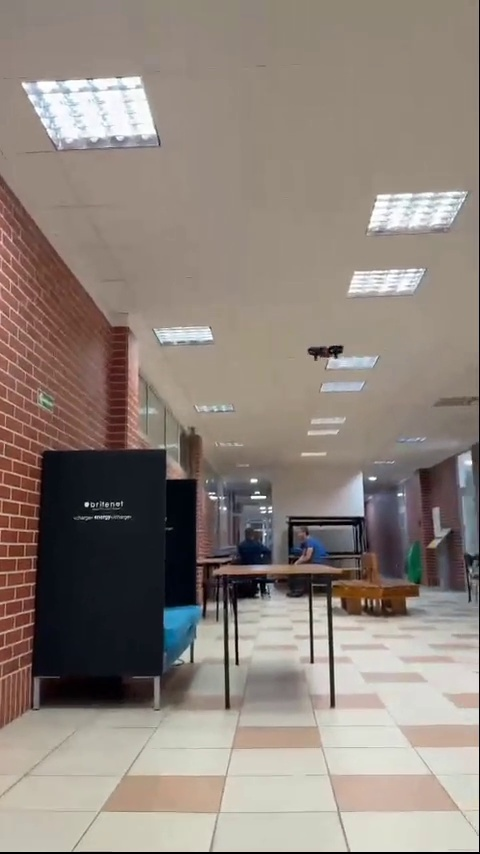drone: (307, 345, 342, 357)
no vest: (288, 521, 333, 566), (236, 524, 271, 560)
